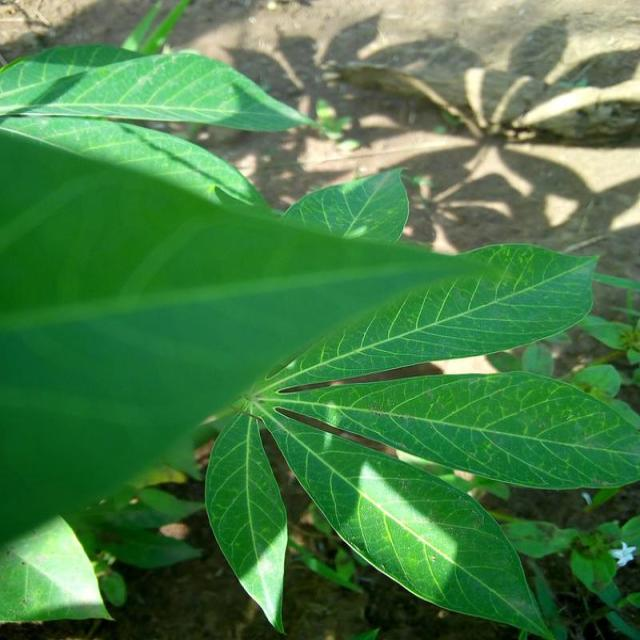cassava leaf: (0, 41, 638, 634)
